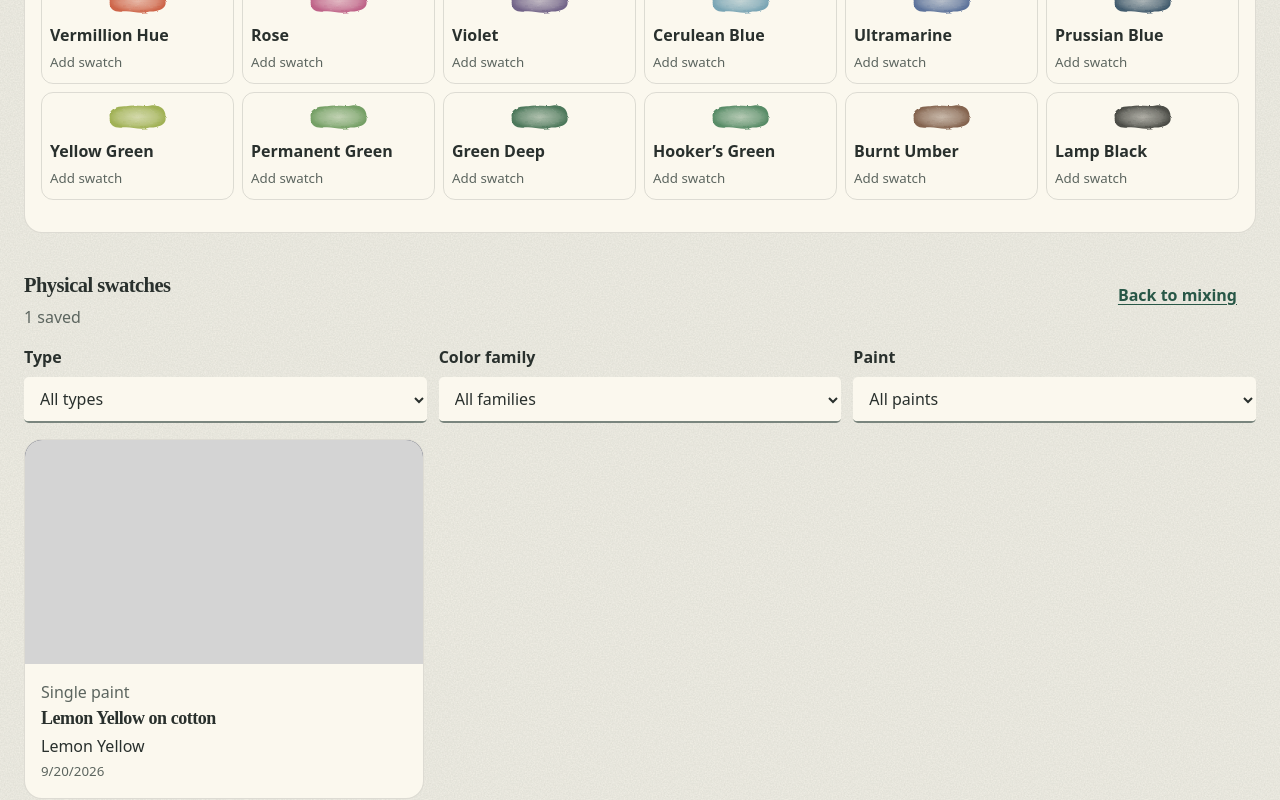
Scenario: personal Color Library › shows paint-set coverage and a filterable swatch gallery
(page scrolled)
Expected: the heading "Lemon Yellow on cotton" is shown, [41, 708, 216, 728]
Select "Custom mix" in the dropdown labelled "Type" at (225, 400), box [24, 377, 427, 423]
(page scrolled)
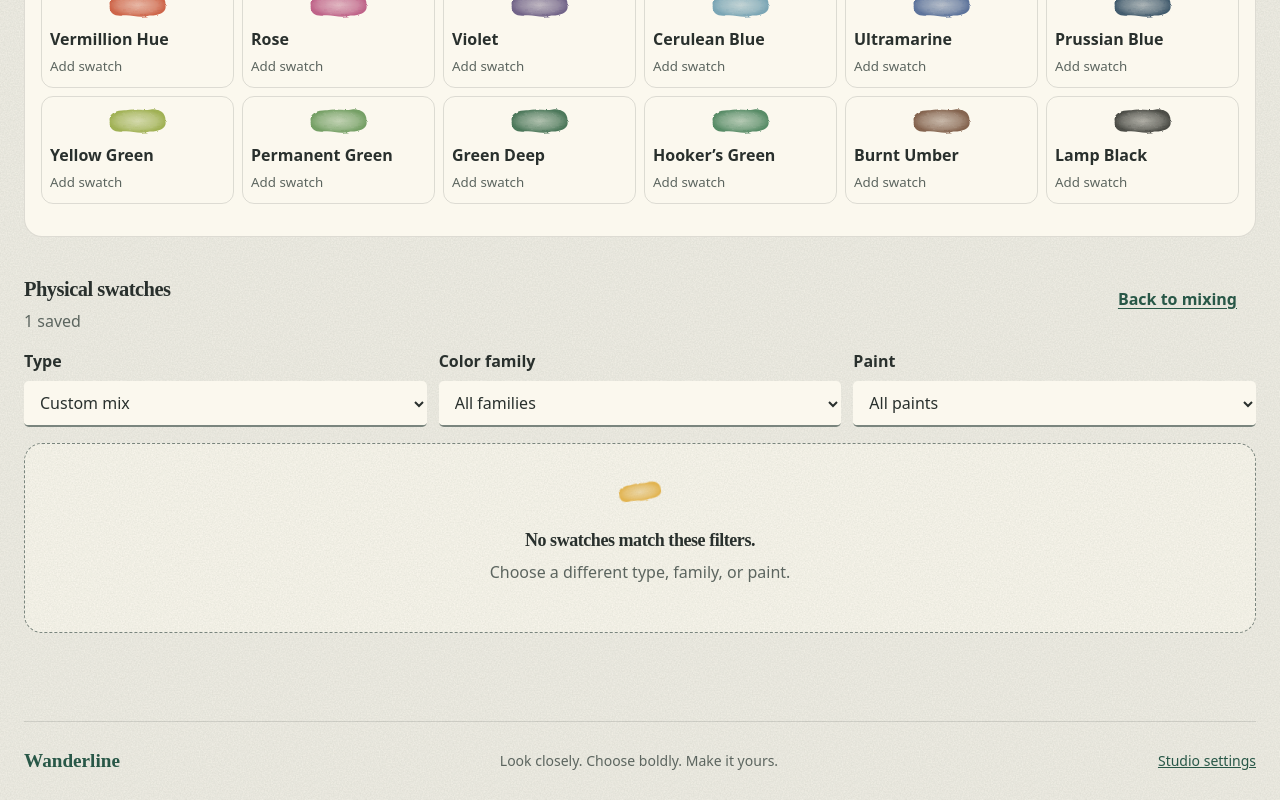
Result: the heading "No swatches match these filters." is shown at [525, 530, 755, 550]
